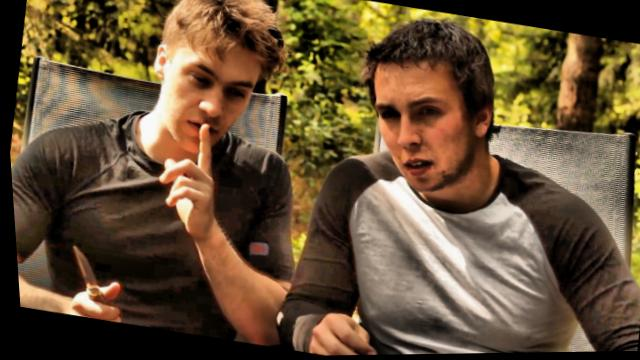knife: (48, 233, 131, 323)
